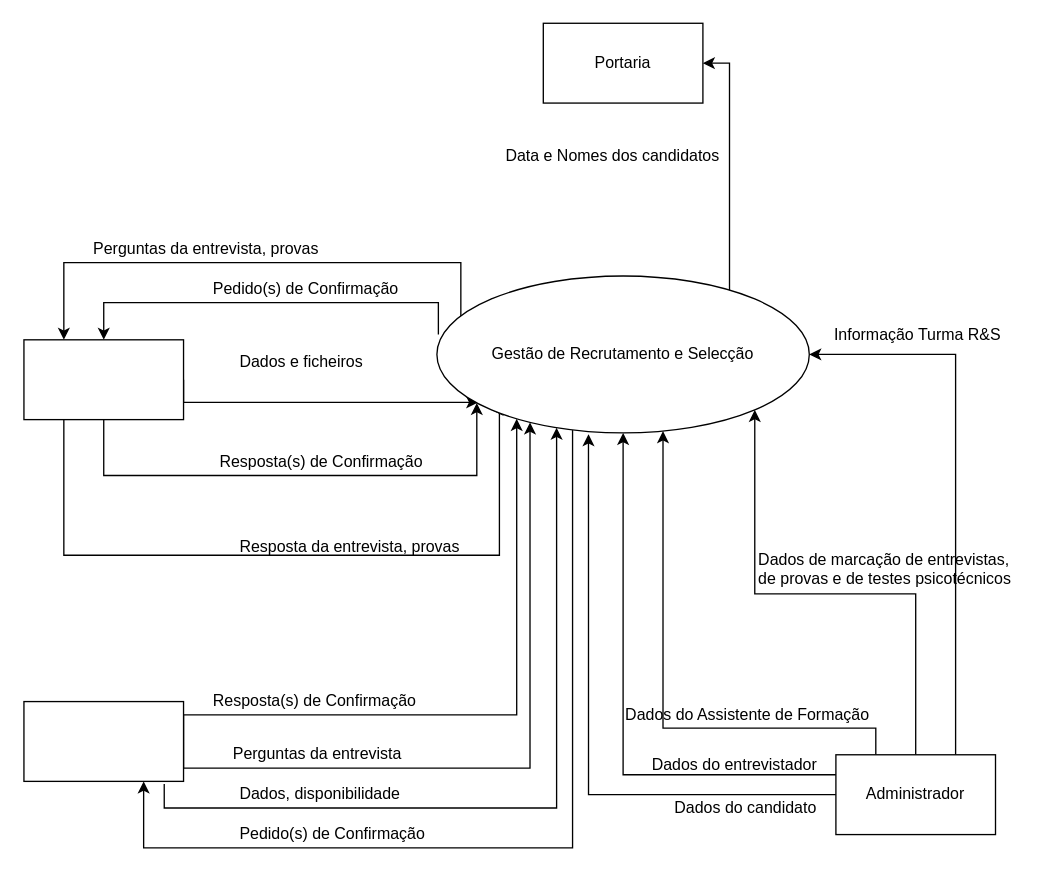
This 1057x882 diagram has some shape labels left out. The shapes that lost their labels are listed below. From the top down, each one's centre as x and y in pixels, then its label:
the point at 103,379: Candidato
the point at 103,740: Entrevistador
